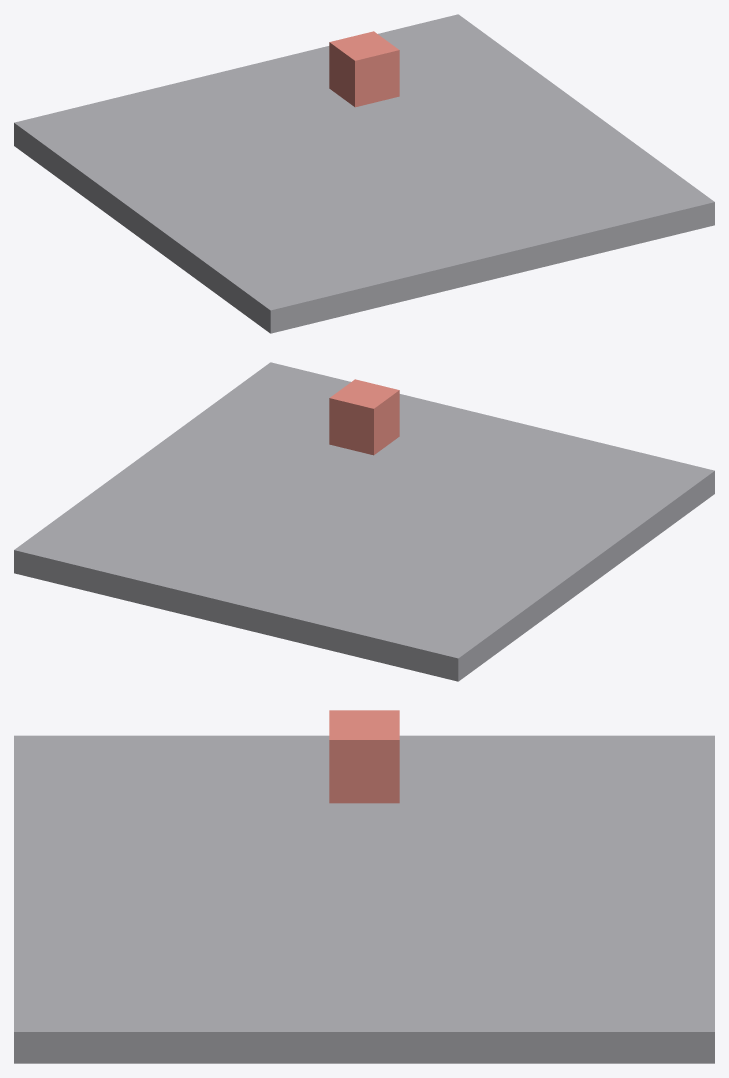
File: FallRestDemo.gltf
3 renders of one model, top to bottom at view 1: azimuth 30°, elevation 25°; view 2: azimuth 150°, elevation 25°; view 3: azimuth 270°, elevation 25°, orthographic. The views are drawn at different scales.
Visible parts, largest first — view 1: Floor, FallingBox; view 2: Floor, FallingBox; view 3: Floor, FallingBox.
Boxes of the visible parts, x1,y1,x2,y2 form: Floor: (14, 14, 714, 333); FallingBox: (329, 31, 399, 107); Floor: (14, 362, 714, 681); FallingBox: (329, 379, 399, 455); Floor: (14, 735, 714, 1063); FallingBox: (329, 710, 399, 803).
Size of the model in its own units: 10 by 3 by 10.
